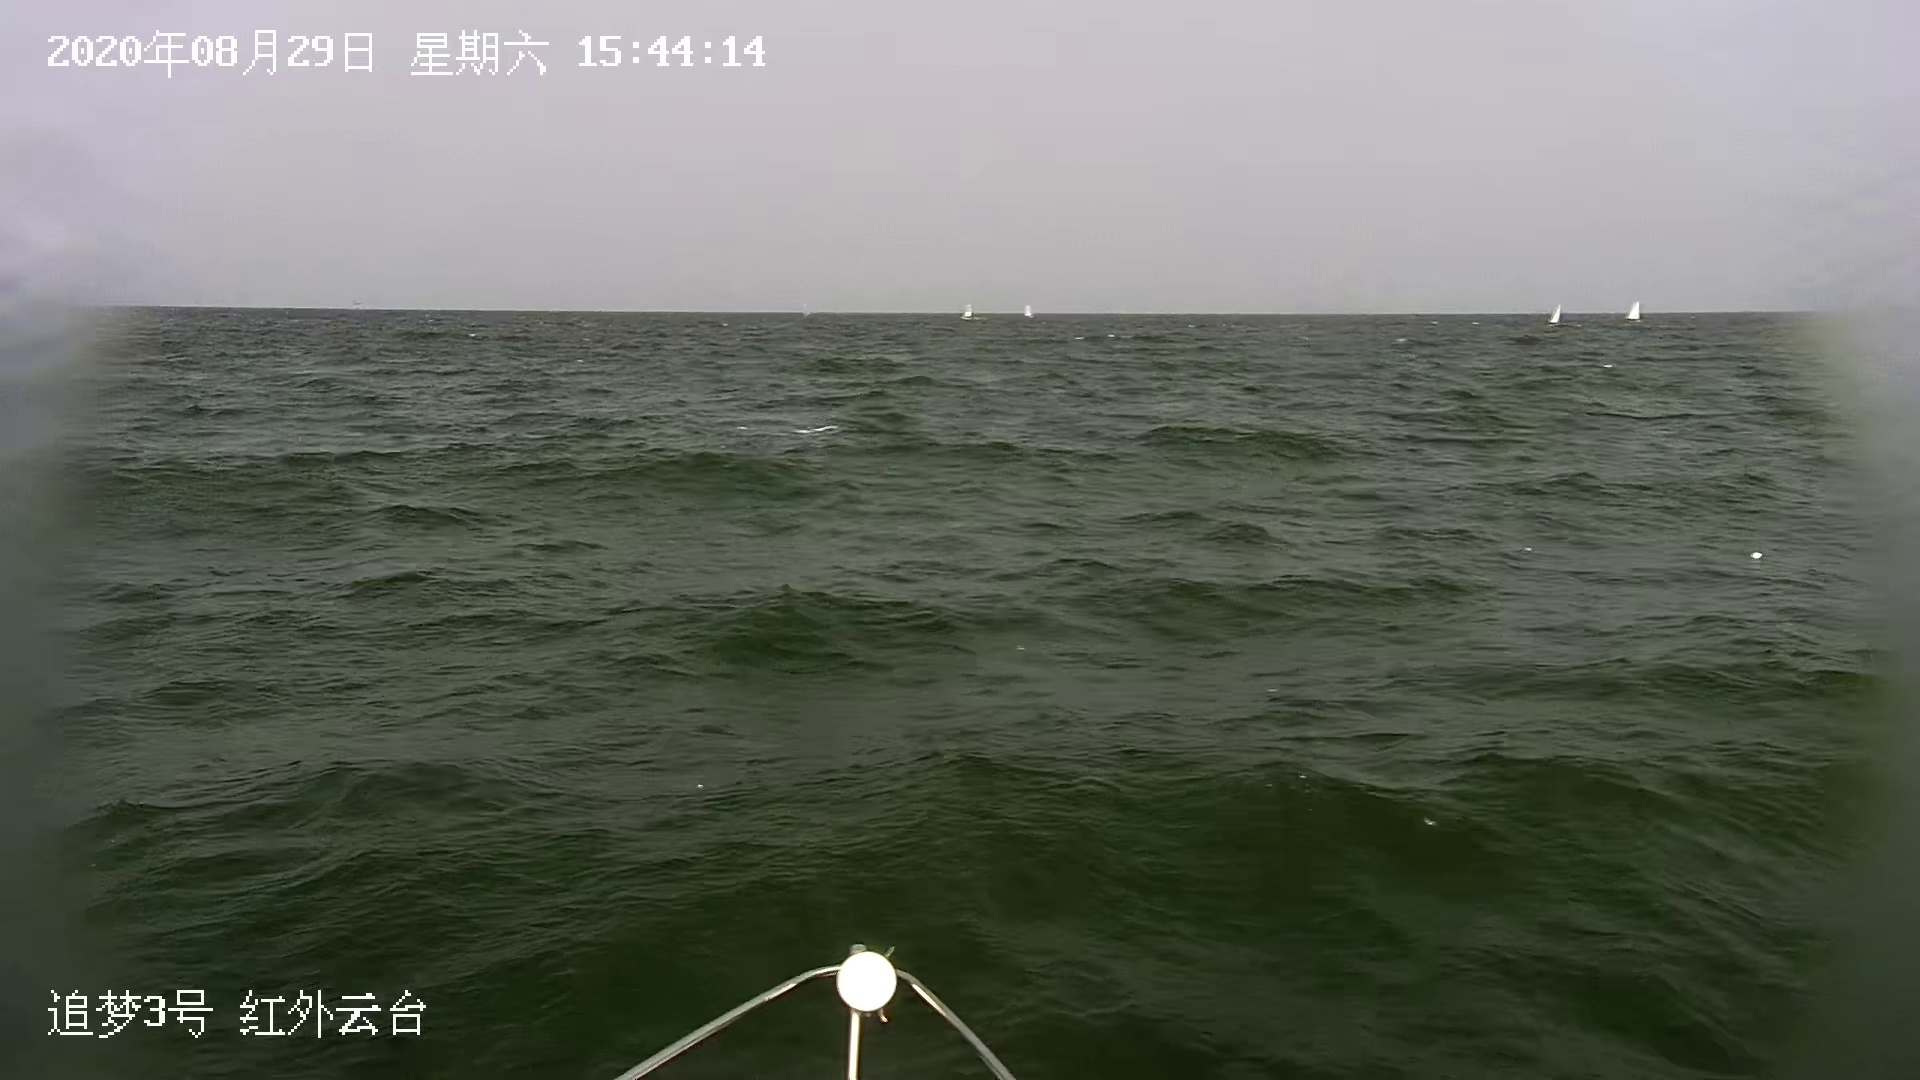barrier: (1545, 301, 1564, 324), (1625, 301, 1640, 320), (963, 305, 975, 320), (1025, 305, 1036, 316)
this: (611, 945, 1029, 1079)
